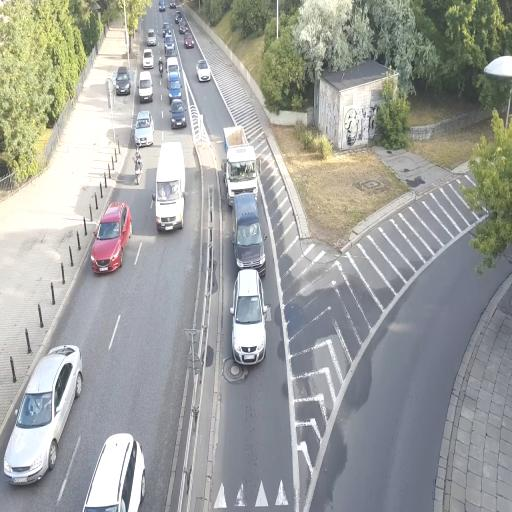vehicle: (2, 343, 84, 487), (224, 127, 266, 275), (82, 432, 146, 512), (231, 268, 268, 366), (90, 199, 132, 275), (154, 140, 186, 233), (233, 190, 267, 274), (224, 124, 258, 204), (134, 112, 154, 147), (169, 98, 187, 129), (138, 71, 153, 103), (114, 67, 131, 95), (167, 71, 181, 98), (196, 60, 212, 82)
